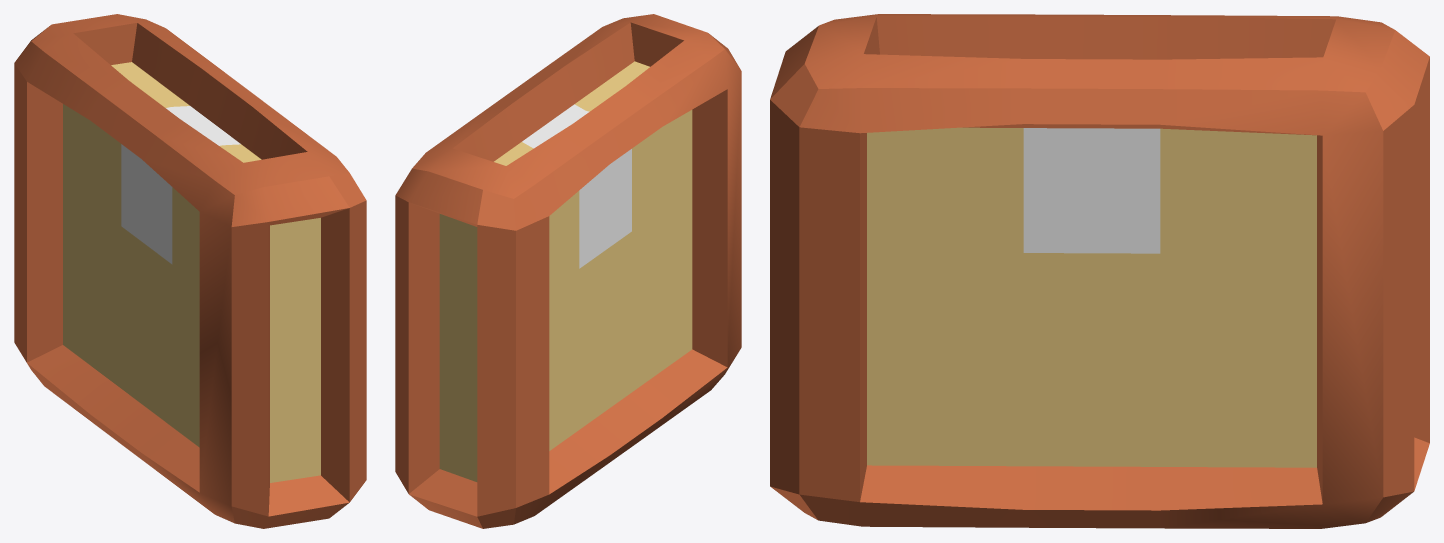
File: Props_Box_Wood_05.fbx
3 renders of one model, left to right at view 1: azimuth 30°, elevation 25°; view 2: azimuth 150°, elevation 25°; view 3: azimuth 270°, elevation 25°, orthographic. The views are drawn at different scales.
Parts seen in each view (by area): view 1: Props_Box_Wood_05; view 2: Props_Box_Wood_05; view 3: Props_Box_Wood_05.
Part boxes in pixels (left/top/right/bottom): Props_Box_Wood_05: left=14, top=14, right=366, bottom=528; Props_Box_Wood_05: left=395, top=14, right=741, bottom=528; Props_Box_Wood_05: left=770, top=14, right=1429, bottom=528.
Size of the model in its own units: 21.36 by 48.19 by 61.36.
